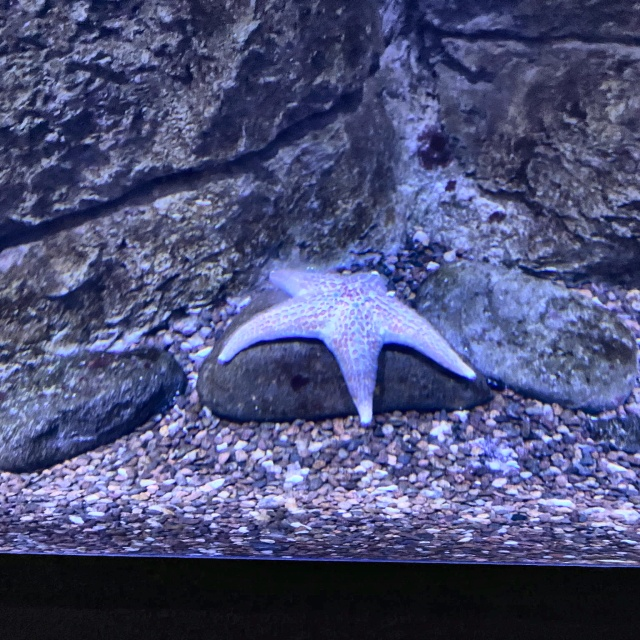starfish: (219, 267, 474, 423)
